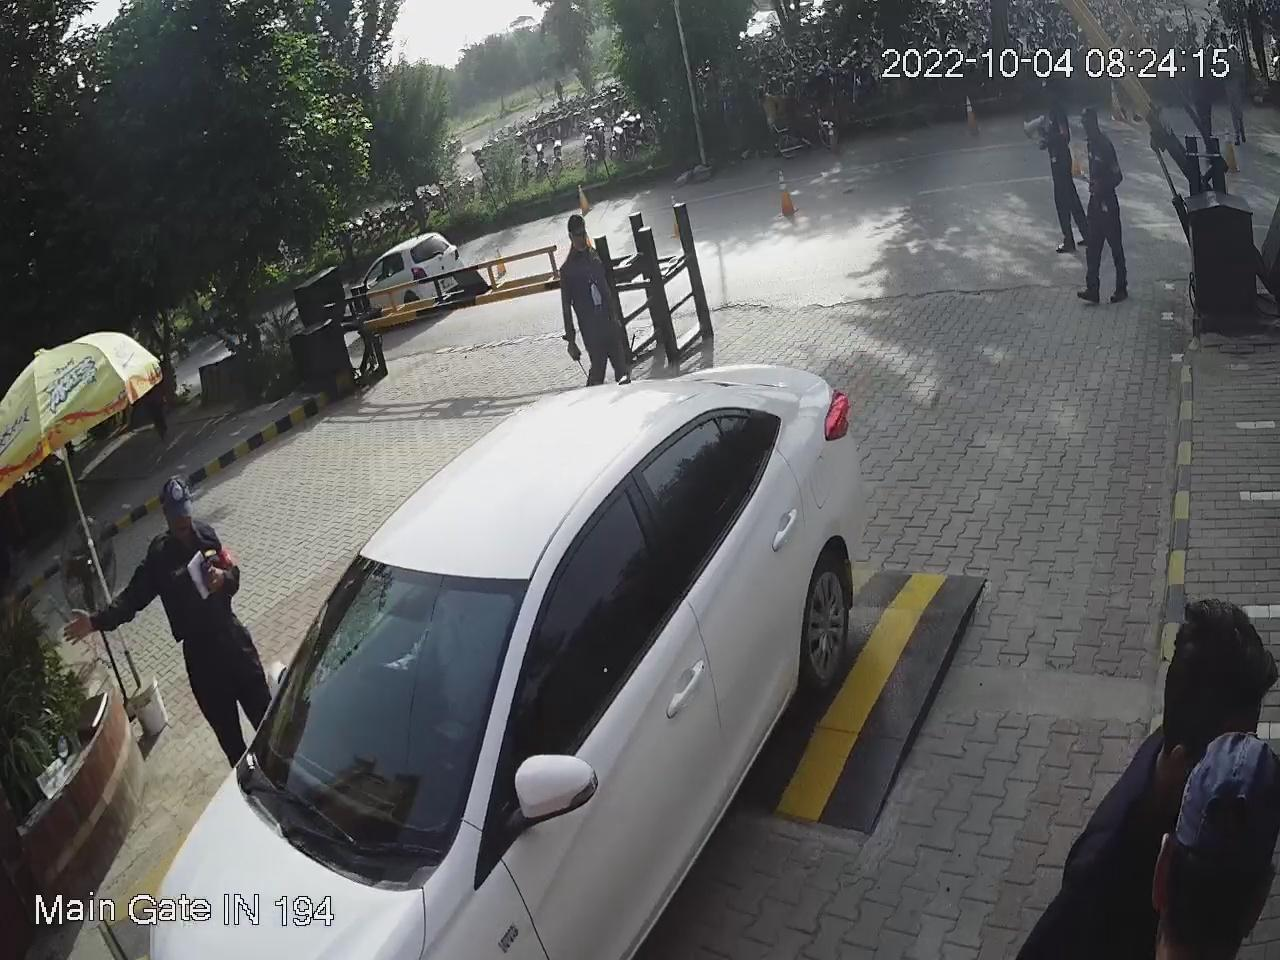windshield: (238, 553, 540, 903)
